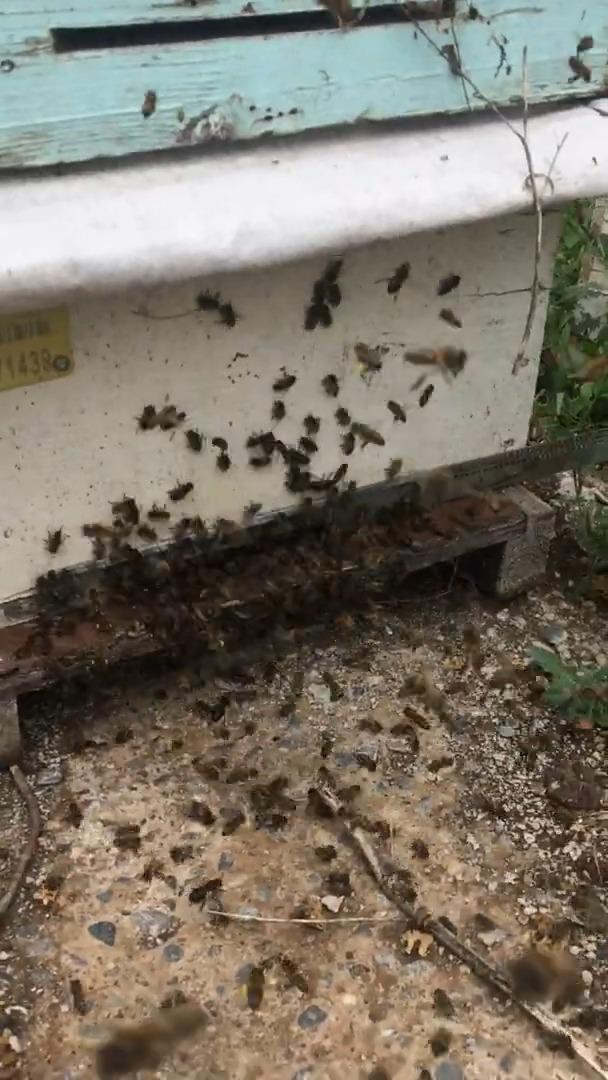worker-bee: (403, 345, 467, 381), (137, 403, 185, 430), (276, 953, 308, 992), (188, 877, 222, 907), (195, 695, 229, 723), (245, 966, 264, 1010), (112, 496, 138, 527), (276, 442, 309, 465), (285, 465, 311, 493), (353, 422, 384, 445), (387, 262, 409, 294), (321, 670, 343, 701), (404, 705, 431, 729), (158, 406, 184, 430), (222, 808, 245, 834), (45, 527, 63, 554), (437, 274, 460, 295), (168, 482, 193, 501), (439, 308, 462, 328), (386, 399, 406, 422), (218, 302, 236, 327), (196, 291, 219, 310), (141, 91, 156, 118), (331, 462, 348, 485), (273, 374, 295, 391), (185, 429, 202, 451), (322, 373, 338, 396), (419, 384, 434, 408), (137, 524, 157, 541), (148, 505, 170, 520), (304, 305, 317, 330), (304, 414, 320, 434), (341, 431, 354, 455), (271, 399, 285, 421), (300, 436, 317, 454), (335, 406, 350, 426), (318, 304, 331, 327), (249, 455, 271, 468), (216, 452, 230, 471), (211, 438, 227, 450)
